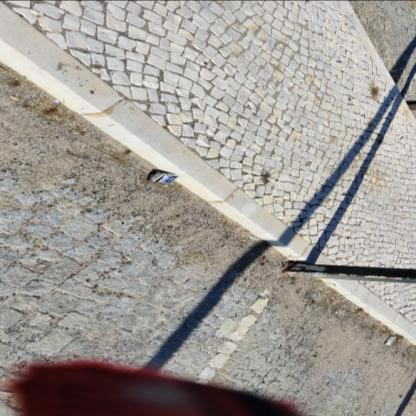Carton: (146, 172, 178, 182), (385, 337, 396, 345)
Cigarette: (11, 96, 21, 101), (349, 314, 354, 315), (163, 186, 168, 187)
